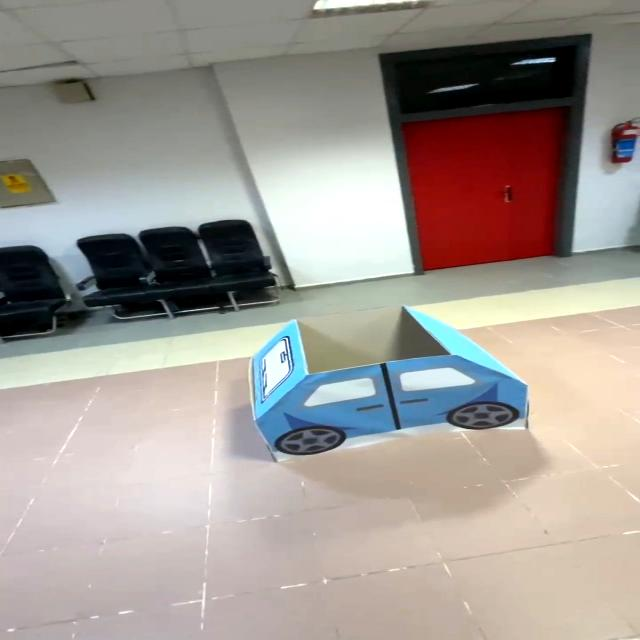blue_car: (206, 292, 552, 476)
